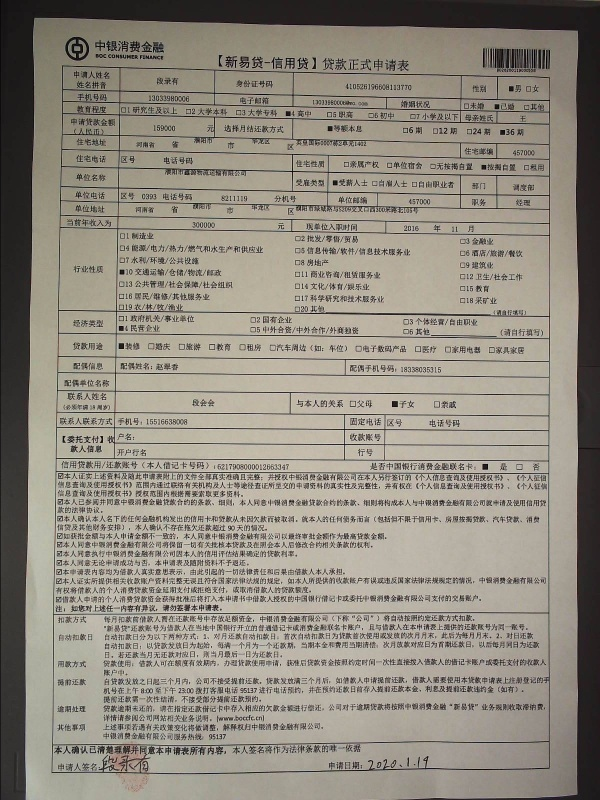text: (225, 54, 240, 75), (241, 54, 256, 75), (257, 54, 272, 75), (273, 54, 288, 75), (289, 54, 304, 75), (305, 54, 320, 75), (321, 54, 336, 75), (337, 54, 352, 75), (353, 54, 368, 75), (369, 54, 384, 75), (385, 54, 400, 75), (129, 104, 144, 124), (145, 104, 160, 124), (161, 104, 176, 124), (177, 104, 192, 124), (193, 104, 208, 124), (209, 104, 224, 124), (225, 104, 240, 124), (241, 104, 256, 124), (257, 104, 272, 124), (273, 104, 288, 124), (289, 104, 304, 124), (305, 104, 320, 124), (321, 104, 336, 124), (337, 104, 352, 124), (353, 104, 368, 124), (369, 104, 384, 124), (385, 104, 400, 124), (401, 104, 416, 124), (417, 104, 432, 124), (433, 104, 448, 124), (113, 754, 128, 774), (129, 754, 144, 774), (401, 54, 414, 75), (97, 38, 112, 56), (113, 38, 128, 56), (129, 38, 144, 56), (145, 38, 160, 56), (417, 755, 433, 771), (129, 341, 144, 357), (145, 341, 160, 357), (161, 341, 176, 357), (177, 341, 192, 357), (193, 341, 208, 357), (209, 341, 224, 357), (225, 341, 240, 357), (241, 341, 256, 357), (257, 341, 272, 357), (273, 341, 288, 357), (289, 341, 304, 357), (305, 341, 320, 357), (321, 341, 336, 357), (337, 341, 352, 357), (353, 341, 368, 357), (369, 341, 384, 357), (385, 341, 400, 357), (401, 341, 416, 357), (417, 341, 432, 357), (433, 341, 448, 357), (449, 341, 464, 357), (465, 341, 480, 357), (481, 341, 496, 357), (497, 341, 512, 357), (513, 341, 528, 357), (369, 755, 384, 771), (385, 755, 400, 771), (401, 755, 416, 771), (465, 248, 480, 263), (481, 248, 496, 263), (497, 248, 512, 263), (449, 104, 460, 124), (101, 754, 112, 774), (337, 123, 352, 137), (193, 219, 208, 233), (129, 243, 144, 257), (145, 243, 160, 257), (161, 243, 176, 257), (177, 243, 192, 257), (193, 243, 208, 257), (209, 243, 224, 257), (225, 243, 240, 257), (241, 243, 256, 257), (305, 245, 320, 259), (321, 245, 336, 259), (337, 245, 352, 259), (353, 245, 368, 259), (369, 245, 384, 259), (385, 245, 400, 259), (305, 293, 320, 307), (321, 293, 336, 307), (337, 293, 352, 307), (353, 293, 368, 307), (369, 293, 384, 307), (513, 248, 527, 263), (465, 271, 480, 285), (481, 271, 496, 285), (497, 271, 512, 285), (465, 294, 480, 308), (481, 294, 496, 308), (97, 68, 113, 81), (401, 245, 415, 259), (513, 271, 527, 285), (81, 68, 96, 81), (81, 79, 96, 92), (241, 78, 256, 91), (257, 78, 272, 91), (513, 82, 528, 95), (353, 159, 368, 172), (369, 159, 384, 172), (385, 159, 400, 172), (401, 159, 416, 172), (417, 159, 432, 172), (433, 159, 448, 172), (449, 159, 464, 172), (465, 159, 480, 172), (481, 159, 496, 172), (497, 159, 512, 172), (513, 159, 528, 172), (529, 159, 544, 172), (305, 177, 320, 190), (321, 177, 336, 190), (337, 177, 352, 190), (353, 177, 368, 190), (369, 177, 384, 190), (385, 177, 400, 190), (401, 177, 416, 190), (417, 177, 432, 190), (433, 177, 448, 190), (129, 190, 144, 203), (145, 190, 160, 203), (161, 190, 176, 203), (177, 190, 192, 203), (129, 266, 144, 279), (145, 266, 160, 279), (161, 266, 176, 279), (177, 266, 192, 279), (193, 266, 208, 279), (209, 266, 224, 279), (305, 269, 320, 282), (321, 269, 336, 282), (337, 269, 352, 282), (353, 269, 368, 282), (369, 269, 384, 282), (305, 281, 320, 294), (321, 281, 336, 294), (337, 281, 352, 294), (353, 281, 368, 294), (305, 398, 320, 411), (321, 398, 336, 411), (337, 398, 352, 411), (353, 398, 368, 411), (369, 398, 384, 411), (385, 398, 400, 411), (401, 398, 416, 411), (417, 398, 432, 411), (433, 398, 448, 411), (129, 447, 144, 460), (65, 460, 80, 473), (81, 460, 96, 473), (97, 460, 112, 473), (113, 460, 128, 473), (129, 460, 144, 473), (145, 460, 160, 473), (161, 460, 176, 473), (177, 460, 192, 473), (193, 460, 208, 473), (209, 460, 224, 473), (225, 460, 240, 473), (241, 460, 256, 473), (257, 460, 272, 473), (273, 460, 288, 473), (385, 461, 400, 474), (401, 461, 416, 474), (417, 461, 432, 474), (433, 461, 448, 474), (449, 461, 464, 474), (465, 461, 480, 474), (481, 461, 496, 474), (497, 461, 512, 474), (513, 461, 528, 474), (529, 461, 544, 474), (65, 744, 80, 757), (81, 744, 96, 757), (97, 744, 112, 757), (113, 744, 128, 757), (129, 744, 144, 757), (145, 744, 160, 757), (161, 744, 176, 757), (177, 744, 192, 757), (193, 744, 208, 757), (209, 744, 224, 757), (225, 744, 240, 757), (241, 744, 256, 757), (257, 744, 272, 757), (273, 744, 288, 757), (289, 744, 304, 757), (305, 744, 320, 757), (321, 744, 336, 757), (337, 744, 352, 757), (353, 123, 366, 137), (370, 461, 384, 474), (353, 744, 367, 757), (97, 51, 112, 63), (113, 51, 128, 63), (129, 51, 144, 63), (145, 51, 160, 63), (161, 75, 176, 87), (353, 82, 368, 94), (369, 82, 384, 94), (385, 82, 400, 94), (241, 95, 256, 107), (257, 95, 272, 107), (81, 104, 96, 116), (97, 104, 112, 116), (81, 117, 96, 129), (97, 117, 112, 129), (225, 123, 240, 135), (241, 123, 256, 135), (257, 123, 272, 135), (417, 125, 432, 137), (433, 125, 448, 137), (449, 125, 464, 137), (465, 125, 480, 137), (481, 125, 496, 137), (497, 125, 512, 137), (513, 125, 528, 137), (81, 137, 96, 149), (161, 156, 176, 168), (177, 156, 192, 168), (65, 218, 80, 230), (81, 218, 96, 230), (97, 218, 112, 230), (417, 223, 432, 235), (433, 223, 448, 235), (449, 223, 464, 235), (129, 255, 144, 267), (145, 255, 160, 267), (161, 255, 176, 267), (177, 255, 192, 267), (129, 279, 144, 291), (145, 279, 160, 291), (161, 279, 176, 291), (177, 279, 192, 291), (193, 279, 208, 291), (209, 279, 224, 291), (129, 292, 144, 304), (145, 292, 160, 304), (161, 292, 176, 304), (177, 292, 192, 304), (193, 292, 208, 304), (305, 233, 320, 245), (321, 233, 336, 245), (337, 233, 352, 245), (305, 258, 320, 270), (305, 304, 320, 316), (465, 283, 480, 295), (81, 318, 96, 330), (129, 313, 144, 325), (145, 313, 160, 325), (161, 313, 176, 325), (177, 313, 192, 325), (257, 325, 272, 337), (273, 325, 288, 337), (289, 325, 304, 337), (305, 325, 320, 337), (321, 325, 336, 337), (337, 325, 352, 337), (513, 327, 528, 339), (529, 327, 544, 339), (81, 340, 96, 352), (129, 361, 144, 373), (145, 361, 160, 373), (161, 361, 176, 373), (353, 417, 368, 429), (369, 417, 384, 429), (385, 417, 400, 429), (433, 418, 448, 430), (449, 418, 464, 430), (65, 434, 80, 446), (81, 434, 96, 446), (97, 434, 112, 446), (353, 432, 368, 444), (369, 432, 384, 444), (65, 471, 80, 483), (81, 471, 96, 483), (97, 471, 112, 483), (113, 471, 128, 483), (129, 471, 144, 483), (145, 471, 160, 483), (161, 471, 176, 483), (177, 471, 192, 483), (193, 471, 208, 483), (209, 471, 224, 483), (225, 471, 240, 483), (241, 471, 256, 483), (257, 471, 272, 483), (273, 471, 288, 483), (289, 471, 304, 483), (305, 471, 320, 483), (321, 471, 336, 483), (337, 471, 352, 483), (353, 471, 368, 483), (369, 471, 384, 483), (385, 471, 400, 483), (401, 471, 416, 483), (417, 471, 432, 483), (433, 471, 448, 483), (449, 471, 464, 483), (465, 471, 480, 483), (481, 471, 496, 483), (497, 471, 512, 483), (513, 471, 528, 483), (529, 471, 544, 483), (65, 481, 80, 493), (81, 481, 96, 493), (97, 481, 112, 493), (113, 481, 128, 493), (129, 481, 144, 493), (145, 481, 160, 493), (161, 481, 176, 493), (177, 481, 192, 493), (193, 481, 208, 493), (209, 481, 224, 493), (225, 481, 240, 493), (241, 481, 256, 493), (257, 481, 272, 493), (273, 481, 288, 493), (289, 481, 304, 493), (305, 481, 320, 493), (321, 481, 336, 493), (337, 481, 352, 493), (353, 481, 368, 493), (369, 481, 384, 493), (385, 481, 400, 493), (401, 481, 416, 493), (417, 481, 432, 493), (433, 481, 448, 493), (449, 481, 464, 493), (465, 481, 480, 493), (481, 481, 496, 493), (497, 481, 512, 493), (513, 481, 528, 493), (529, 481, 544, 493), (65, 488, 80, 500), (81, 488, 96, 500), (97, 488, 112, 500), (113, 488, 128, 500), (129, 488, 144, 500), (145, 488, 160, 500), (161, 488, 176, 500), (177, 488, 192, 500), (193, 488, 208, 500), (209, 488, 224, 500), (225, 488, 240, 500), (65, 659, 80, 671), (113, 613, 128, 625), (129, 613, 144, 625), (145, 613, 160, 625), (161, 613, 176, 625), (177, 613, 192, 625), (193, 613, 208, 625), (209, 613, 224, 625), (225, 613, 240, 625), (241, 613, 256, 625), (257, 613, 272, 625), (273, 613, 288, 625), (289, 613, 304, 625), (305, 613, 320, 625), (321, 613, 336, 625), (337, 613, 352, 625), (353, 613, 368, 625), (369, 613, 384, 625), (385, 613, 400, 625), (401, 613, 416, 625), (417, 613, 432, 625), (433, 613, 448, 625), (449, 613, 464, 625), (113, 631, 128, 643), (129, 631, 144, 643), (145, 631, 160, 643), (161, 631, 176, 643), (177, 631, 192, 643), (193, 631, 208, 643), (209, 631, 224, 643), (225, 631, 240, 643), (241, 631, 256, 643), (257, 631, 272, 643), (273, 631, 288, 643), (289, 631, 304, 643), (305, 631, 320, 643), (321, 631, 336, 643), (337, 631, 352, 643), (353, 631, 368, 643), (369, 631, 384, 643), (385, 631, 400, 643), (401, 631, 416, 643), (417, 631, 432, 643), (433, 631, 448, 643), (449, 631, 464, 643), (465, 631, 480, 643), (481, 631, 496, 643), (497, 631, 512, 643), (513, 631, 528, 643), (257, 136, 273, 147), (513, 308, 529, 319), (417, 327, 433, 338), (117, 341, 128, 357), (177, 417, 193, 428), (529, 514, 545, 525), (81, 633, 97, 644), (273, 650, 289, 661), (513, 685, 529, 696), (401, 82, 415, 94), (273, 123, 287, 135), (402, 125, 416, 137), (402, 223, 416, 235), (257, 243, 269, 257), (292, 293, 304, 307), (81, 92, 96, 103), (465, 101, 480, 112), (481, 101, 496, 112), (497, 101, 512, 112), (513, 101, 528, 112), (529, 101, 544, 112), (465, 113, 480, 124), (481, 113, 496, 124), (81, 126, 96, 137), (161, 123, 176, 134), (81, 173, 96, 184), (177, 167, 192, 178), (193, 167, 208, 178), (209, 167, 224, 178), (225, 167, 240, 178), (513, 182, 528, 193), (225, 194, 240, 205), (273, 194, 288, 205), (81, 204, 96, 215), (81, 264, 96, 275), (129, 231, 144, 242), (465, 237, 480, 248), (481, 237, 496, 248), (465, 260, 480, 271), (481, 260, 496, 271), (497, 308, 512, 319), (129, 324, 144, 335), (145, 324, 160, 335), (417, 318, 432, 329), (433, 318, 448, 329), (449, 318, 464, 329), (465, 318, 480, 329), (353, 363, 368, 374), (369, 363, 384, 374), (385, 363, 400, 374), (401, 363, 416, 374), (417, 363, 432, 374), (65, 378, 80, 389), (81, 378, 96, 389), (97, 378, 112, 389), (81, 392, 96, 403), (65, 402, 80, 413), (81, 402, 96, 413), (97, 402, 112, 413), (193, 397, 208, 408), (65, 417, 80, 428), (81, 417, 96, 428), (97, 417, 112, 428), (113, 417, 128, 428), (129, 417, 144, 428), (145, 417, 160, 428), (161, 417, 176, 428), (81, 444, 96, 455), (65, 514, 80, 525), (81, 514, 96, 525), (97, 514, 112, 525), (113, 514, 128, 525), (129, 514, 144, 525), (145, 514, 160, 525), (161, 514, 176, 525), (177, 514, 192, 525), (193, 514, 208, 525), (209, 514, 224, 525), (225, 514, 240, 525), (241, 514, 256, 525), (257, 514, 272, 525), (273, 514, 288, 525), (289, 514, 304, 525), (305, 514, 320, 525), (321, 514, 336, 525), (337, 514, 352, 525), (353, 514, 368, 525), (369, 514, 384, 525), (385, 514, 400, 525), (401, 514, 416, 525), (417, 514, 432, 525), (433, 514, 448, 525), (449, 514, 464, 525), (465, 514, 480, 525), (481, 514, 496, 525), (497, 514, 512, 525), (513, 514, 528, 525), (65, 531, 80, 542), (81, 531, 96, 542), (97, 531, 112, 542), (113, 531, 128, 542), (129, 531, 144, 542), (145, 531, 160, 542), (161, 531, 176, 542), (177, 531, 192, 542), (193, 531, 208, 542), (209, 531, 224, 542), (225, 531, 240, 542), (241, 531, 256, 542), (257, 531, 272, 542), (273, 531, 288, 542), (289, 531, 304, 542), (305, 531, 320, 542), (321, 531, 336, 542), (337, 531, 352, 542), (353, 531, 368, 542), (369, 531, 384, 542), (65, 576, 80, 587), (81, 576, 96, 587), (97, 576, 112, 587), (113, 576, 128, 587), (129, 576, 144, 587), (145, 576, 160, 587), (161, 576, 176, 587), (177, 576, 192, 587), (193, 576, 208, 587), (209, 576, 224, 587), (225, 576, 240, 587), (241, 576, 256, 587), (257, 576, 272, 587), (273, 576, 288, 587), (289, 576, 304, 587), (305, 576, 320, 587), (321, 576, 336, 587), (337, 576, 352, 587), (353, 576, 368, 587), (369, 576, 384, 587), (385, 576, 400, 587), (401, 576, 416, 587), (417, 576, 432, 587), (433, 576, 448, 587), (449, 576, 464, 587), (465, 576, 480, 587), (481, 576, 496, 587), (497, 576, 512, 587), (513, 576, 528, 587), (529, 576, 544, 587), (65, 594, 80, 605), (81, 594, 96, 605), (97, 594, 112, 605), (113, 594, 128, 605), (129, 594, 144, 605), (145, 594, 160, 605), (161, 594, 176, 605), (177, 594, 192, 605), (193, 594, 208, 605), (209, 594, 224, 605), (225, 594, 240, 605), (241, 594, 256, 605), (257, 594, 272, 605), (273, 594, 288, 605), (289, 594, 304, 605), (305, 594, 320, 605), (321, 594, 336, 605), (337, 594, 352, 605), (353, 594, 368, 605), (369, 594, 384, 605), (385, 594, 400, 605), (401, 594, 416, 605), (417, 594, 432, 605), (433, 594, 448, 605), (449, 594, 464, 605), (465, 594, 480, 605), (65, 604, 80, 615), (81, 604, 96, 615), (97, 604, 112, 615), (113, 604, 128, 615), (129, 604, 144, 615), (145, 604, 160, 615), (161, 604, 176, 615), (177, 604, 192, 615), (193, 604, 208, 615), (209, 604, 224, 615), (65, 633, 80, 644), (65, 677, 80, 688), (113, 623, 128, 634), (129, 623, 144, 634), (145, 623, 160, 634), (161, 623, 176, 634), (177, 623, 192, 634), (193, 623, 208, 634), (209, 623, 224, 634), (225, 623, 240, 634), (241, 623, 256, 634), (257, 623, 272, 634), (273, 623, 288, 634), (289, 623, 304, 634), (305, 623, 320, 634), (321, 623, 336, 634), (337, 623, 352, 634), (353, 623, 368, 634), (369, 623, 384, 634), (385, 623, 400, 634), (401, 623, 416, 634), (417, 623, 432, 634), (433, 623, 448, 634), (449, 623, 464, 634), (465, 623, 480, 634), (481, 623, 496, 634), (497, 623, 512, 634), (513, 623, 528, 634), (113, 640, 128, 651), (129, 640, 144, 651), (145, 640, 160, 651), (161, 640, 176, 651), (177, 640, 192, 651), (193, 640, 208, 651), (209, 640, 224, 651), (225, 640, 240, 651), (241, 640, 256, 651), (257, 640, 272, 651), (273, 640, 288, 651), (289, 640, 304, 651), (305, 640, 320, 651), (321, 640, 336, 651), (337, 640, 352, 651), (353, 640, 368, 651), (369, 640, 384, 651), (385, 640, 400, 651), (401, 640, 416, 651), (417, 640, 432, 651), (433, 640, 448, 651), (449, 640, 464, 651), (465, 640, 480, 651), (481, 640, 496, 651), (497, 640, 512, 651), (513, 640, 528, 651), (529, 640, 544, 651), (113, 650, 128, 661), (129, 650, 144, 661), (145, 650, 160, 661), (161, 650, 176, 661), (177, 650, 192, 661), (193, 650, 208, 661), (209, 650, 224, 661), (225, 650, 240, 661), (241, 650, 256, 661), (257, 650, 272, 661), (113, 658, 128, 669), (129, 658, 144, 669), (145, 658, 160, 669), (161, 658, 176, 669), (177, 658, 192, 669), (193, 658, 208, 669), (209, 658, 224, 669), (225, 658, 240, 669), (241, 658, 256, 669), (257, 658, 272, 669), (273, 658, 288, 669), (289, 658, 304, 669), (305, 658, 320, 669), (321, 658, 336, 669), (337, 658, 352, 669), (353, 658, 368, 669), (369, 658, 384, 669), (385, 658, 400, 669), (401, 658, 416, 669), (417, 658, 432, 669), (433, 658, 448, 669), (449, 658, 464, 669), (465, 658, 480, 669), (481, 658, 496, 669), (497, 658, 512, 669), (513, 658, 528, 669), (529, 658, 544, 669), (113, 676, 128, 687), (129, 676, 144, 687), (145, 676, 160, 687), (161, 676, 176, 687), (177, 676, 192, 687), (193, 676, 208, 687), (209, 676, 224, 687), (225, 676, 240, 687), (241, 676, 256, 687), (257, 676, 272, 687), (273, 676, 288, 687), (289, 676, 304, 687), (305, 676, 320, 687), (321, 676, 336, 687), (337, 676, 352, 687), (353, 676, 368, 687), (369, 676, 384, 687), (385, 676, 400, 687), (401, 676, 416, 687), (417, 676, 432, 687), (433, 676, 448, 687), (449, 676, 464, 687), (465, 676, 480, 687), (481, 676, 496, 687), (497, 676, 512, 687), (513, 676, 528, 687), (529, 676, 544, 687), (113, 685, 128, 696), (129, 685, 144, 696), (145, 685, 160, 696), (161, 685, 176, 696), (177, 685, 192, 696), (193, 685, 208, 696), (209, 685, 224, 696), (225, 685, 240, 696), (241, 685, 256, 696), (257, 685, 272, 696), (273, 685, 288, 696), (289, 685, 304, 696), (305, 685, 320, 696), (321, 685, 336, 696), (337, 685, 352, 696), (353, 685, 368, 696), (369, 685, 384, 696), (385, 685, 400, 696), (401, 685, 416, 696), (417, 685, 432, 696), (433, 685, 448, 696), (449, 685, 464, 696), (465, 685, 480, 696), (481, 685, 496, 696), (497, 685, 512, 696), (113, 702, 128, 713), (129, 702, 144, 713), (145, 702, 160, 713), (161, 702, 176, 713), (177, 702, 192, 713), (193, 702, 208, 713), (209, 702, 224, 713), (225, 702, 240, 713), (241, 702, 256, 713), (257, 702, 272, 713), (273, 702, 288, 713), (289, 702, 304, 713), (305, 702, 320, 713), (321, 702, 336, 713), (337, 702, 352, 713), (353, 702, 368, 713), (369, 702, 384, 713), (385, 702, 400, 713), (401, 702, 416, 713), (417, 702, 432, 713), (433, 702, 448, 713), (449, 702, 464, 713), (465, 702, 480, 713), (481, 702, 496, 713), (497, 702, 512, 713), (513, 702, 528, 713), (529, 702, 544, 713), (113, 713, 128, 724), (129, 713, 144, 724), (145, 713, 160, 724), (161, 713, 176, 724), (177, 713, 192, 724), (193, 713, 208, 724), (209, 713, 224, 724), (225, 713, 240, 724), (241, 713, 256, 724), (113, 731, 128, 742), (129, 731, 144, 742), (145, 731, 160, 742), (161, 731, 176, 742), (177, 731, 192, 742), (193, 731, 208, 742), (209, 731, 224, 742), (65, 762, 80, 773), (81, 762, 96, 773), (337, 761, 352, 772), (177, 94, 193, 104), (120, 104, 128, 124), (241, 559, 257, 569), (97, 79, 109, 92), (529, 82, 541, 95), (145, 139, 158, 151), (465, 223, 478, 235), (292, 281, 304, 294), (481, 283, 494, 295), (449, 398, 461, 411), (115, 432, 128, 444), (116, 447, 128, 460), (465, 613, 478, 625), (209, 219, 220, 233), (293, 245, 304, 259), (402, 318, 416, 329), (402, 327, 416, 338), (66, 392, 80, 403), (97, 392, 111, 403), (161, 94, 176, 104), (321, 98, 336, 108), (337, 98, 352, 108), (353, 98, 368, 108), (401, 100, 416, 110), (417, 100, 432, 110), (305, 139, 320, 149), (321, 139, 336, 149), (337, 139, 352, 149), (353, 139, 368, 149), (465, 147, 480, 157), (481, 147, 496, 157), (81, 154, 96, 164), (305, 159, 320, 169), (81, 190, 96, 200), (337, 195, 352, 205), (353, 195, 368, 205), (417, 197, 432, 207), (193, 202, 208, 212), (305, 205, 320, 215), (321, 205, 336, 215), (337, 205, 352, 215), (353, 205, 368, 215), (369, 205, 384, 215), (385, 205, 400, 215), (401, 205, 416, 215), (129, 302, 144, 312), (145, 302, 160, 312), (161, 302, 176, 312), (257, 315, 272, 325), (273, 315, 288, 325), (81, 361, 96, 371), (65, 498, 80, 508), (81, 498, 96, 508), (97, 498, 112, 508), (113, 498, 128, 508), (129, 498, 144, 508), (145, 498, 160, 508), (161, 498, 176, 508), (177, 498, 192, 508), (193, 498, 208, 508), (209, 498, 224, 508), (225, 498, 240, 508), (241, 498, 256, 508), (257, 498, 272, 508), (273, 498, 288, 508), (289, 498, 304, 508), (305, 498, 320, 508), (321, 498, 336, 508), (337, 498, 352, 508), (353, 498, 368, 508), (369, 498, 384, 508), (385, 498, 400, 508), (401, 498, 416, 508), (417, 498, 432, 508), (433, 498, 448, 508), (449, 498, 464, 508), (465, 498, 480, 508), (481, 498, 496, 508), (497, 498, 512, 508), (513, 498, 528, 508), (529, 498, 544, 508), (65, 506, 80, 516), (81, 506, 96, 516), (65, 523, 80, 533), (81, 523, 96, 533), (97, 523, 112, 533), (113, 523, 128, 533), (129, 523, 144, 533), (145, 523, 160, 533), (161, 523, 176, 533), (177, 523, 192, 533), (193, 523, 208, 533), (209, 523, 224, 533), (225, 523, 240, 533), (241, 523, 256, 533), (257, 523, 272, 533), (65, 540, 80, 550), (81, 540, 96, 550), (97, 540, 112, 550), (113, 540, 128, 550), (129, 540, 144, 550), (145, 540, 160, 550), (161, 540, 176, 550), (177, 540, 192, 550), (193, 540, 208, 550), (209, 540, 224, 550), (225, 540, 240, 550), (241, 540, 256, 550), (257, 540, 272, 550), (273, 540, 288, 550), (289, 540, 304, 550), (305, 540, 320, 550), (321, 540, 336, 550), (337, 540, 352, 550), (353, 540, 368, 550), (65, 559, 80, 569), (81, 559, 96, 569), (97, 559, 112, 569), (113, 559, 128, 569), (129, 559, 144, 569), (145, 559, 160, 569), (161, 559, 176, 569), (177, 559, 192, 569), (193, 559, 208, 569), (209, 559, 224, 569), (225, 559, 240, 569), (65, 567, 80, 577), (81, 567, 96, 577), (97, 567, 112, 577), (113, 567, 128, 577), (129, 567, 144, 577), (145, 567, 160, 577), (161, 567, 176, 577), (177, 567, 192, 577), (193, 567, 208, 577), (209, 567, 224, 577), (225, 567, 240, 577), (241, 567, 256, 577), (257, 567, 272, 577), (273, 567, 288, 577), (289, 567, 304, 577), (305, 567, 320, 577), (321, 567, 336, 577), (65, 586, 80, 596), (81, 586, 96, 596), (97, 586, 112, 596), (113, 586, 128, 596), (129, 586, 144, 596), (145, 586, 160, 596), (161, 586, 176, 596), (177, 586, 192, 596), (193, 586, 208, 596), (209, 586, 224, 596), (225, 586, 240, 596), (241, 586, 256, 596), (257, 586, 272, 596), (273, 586, 288, 596), (289, 586, 304, 596), (65, 615, 80, 625), (65, 705, 80, 715), (65, 723, 80, 733), (113, 695, 128, 705), (129, 695, 144, 705), (145, 695, 160, 705), (161, 695, 176, 705), (177, 695, 192, 705), (193, 695, 208, 705), (209, 695, 224, 705), (225, 695, 240, 705), (241, 695, 256, 705), (113, 722, 128, 732), (129, 722, 144, 732), (145, 722, 160, 732), (161, 722, 176, 732), (177, 722, 192, 732), (193, 722, 208, 732), (209, 722, 224, 732), (225, 722, 240, 732), (241, 722, 256, 732), (257, 722, 272, 732), (273, 722, 288, 732), (289, 722, 304, 732), (305, 722, 320, 732), (257, 203, 273, 212), (321, 258, 333, 270), (292, 304, 304, 316), (500, 327, 512, 339), (289, 550, 305, 559), (97, 92, 110, 103), (341, 159, 352, 172), (145, 231, 158, 242), (117, 266, 128, 279), (115, 324, 128, 335), (257, 713, 270, 724), (53, 744, 64, 757), (514, 198, 528, 208), (226, 206, 240, 216), (118, 243, 128, 257), (337, 567, 351, 577), (145, 754, 152, 774), (497, 66, 512, 75), (513, 66, 528, 75), (193, 137, 208, 146), (513, 149, 528, 158), (321, 222, 336, 231), (337, 222, 352, 231), (65, 550, 80, 559), (81, 550, 96, 559), (97, 550, 112, 559), (113, 550, 128, 559), (129, 550, 144, 559), (145, 550, 160, 559), (161, 550, 176, 559), (177, 550, 192, 559), (193, 550, 208, 559), (209, 550, 224, 559), (225, 550, 240, 559), (241, 550, 256, 559), (257, 550, 272, 559), (273, 550, 288, 559), (113, 669, 128, 678), (97, 137, 108, 149), (164, 167, 176, 178), (193, 255, 204, 267), (117, 279, 128, 291), (117, 292, 128, 304), (293, 233, 304, 245), (353, 233, 364, 245), (293, 258, 304, 270), (321, 304, 332, 316), (97, 340, 108, 352), (433, 363, 445, 374), (353, 761, 365, 772), (147, 94, 160, 104), (145, 205, 158, 215), (294, 269, 304, 282), (161, 38, 168, 56), (327, 123, 336, 137), (306, 222, 320, 231), (97, 126, 108, 137), (97, 173, 108, 184), (241, 194, 252, 205), (469, 198, 480, 209), (97, 204, 108, 215), (357, 447, 368, 458), (53, 594, 64, 605), (53, 604, 64, 615), (97, 154, 109, 164), (276, 221, 288, 231), (118, 255, 128, 267), (225, 279, 235, 291), (177, 302, 189, 312), (97, 318, 107, 330), (118, 313, 128, 325), (353, 325, 363, 337), (305, 586, 317, 596), (529, 631, 539, 643), (227, 141, 240, 150), (295, 177, 304, 190), (529, 182, 539, 193), (97, 190, 108, 200), (289, 194, 299, 205), (117, 302, 128, 312), (70, 444, 80, 455), (97, 506, 108, 516), (102, 623, 112, 634), (102, 658, 112, 669), (102, 685, 112, 696), (102, 702, 112, 713), (102, 731, 112, 742), (71, 117, 80, 129), (135, 139, 144, 151), (71, 318, 80, 330), (71, 340, 80, 352), (119, 361, 128, 373), (129, 432, 138, 444), (81, 659, 90, 671), (103, 613, 112, 625), (103, 631, 112, 643), (219, 54, 224, 75), (72, 68, 80, 81), (449, 177, 457, 190), (120, 190, 128, 203), (296, 398, 304, 411), (134, 205, 144, 215), (369, 540, 379, 550), (54, 586, 64, 596), (81, 615, 91, 625), (257, 695, 267, 705), (102, 722, 112, 732), (321, 722, 331, 732), (471, 83, 480, 94), (481, 83, 490, 94), (519, 113, 528, 124), (129, 155, 138, 166), (241, 167, 250, 178), (289, 207, 298, 218), (97, 264, 106, 275), (119, 231, 128, 242), (209, 397, 218, 408), (385, 531, 394, 542), (55, 576, 64, 587), (103, 640, 112, 651), (103, 650, 112, 661), (103, 676, 112, 687), (103, 713, 112, 724), (327, 761, 336, 772), (344, 82, 352, 94), (529, 66, 539, 75), (311, 98, 320, 108), (295, 139, 304, 149), (529, 149, 539, 158), (295, 159, 304, 169), (471, 182, 480, 192), (353, 222, 363, 231), (97, 361, 106, 371), (55, 540, 64, 550), (55, 567, 64, 577), (102, 669, 112, 678), (103, 695, 112, 705), (72, 126, 80, 137), (152, 123, 160, 134), (120, 155, 128, 166), (56, 531, 64, 542), (81, 677, 89, 688), (458, 271, 464, 285), (458, 294, 464, 308), (497, 294, 503, 308), (249, 325, 256, 337), (57, 471, 64, 483), (57, 488, 64, 500), (241, 488, 248, 500), (55, 550, 64, 559), (209, 123, 217, 133), (481, 182, 489, 192), (408, 197, 416, 207), (296, 205, 304, 215), (248, 315, 256, 325), (72, 361, 80, 371), (56, 506, 64, 516), (56, 559, 64, 569), (81, 705, 89, 715), (81, 723, 89, 733), (145, 447, 151, 460), (289, 142, 296, 153), (481, 198, 488, 209), (73, 204, 80, 215), (73, 264, 80, 275), (97, 444, 104, 455), (369, 447, 376, 458), (57, 514, 64, 525), (481, 594, 488, 605), (57, 677, 64, 688), (545, 676, 552, 687), (225, 731, 232, 742), (57, 762, 64, 773), (161, 51, 167, 63), (177, 75, 183, 87), (209, 292, 215, 304), (458, 283, 464, 295), (58, 481, 64, 493), (545, 481, 551, 493), (58, 659, 64, 671), (289, 315, 296, 325), (57, 498, 64, 508), (57, 523, 64, 533), (57, 705, 64, 715), (57, 723, 64, 733), (458, 237, 464, 248), (458, 260, 464, 271), (545, 576, 551, 587), (58, 633, 64, 644), (75, 79, 80, 92), (235, 78, 240, 91), (369, 281, 374, 294), (75, 104, 80, 116), (75, 137, 80, 149), (177, 140, 183, 150), (74, 154, 80, 164), (321, 159, 327, 169), (529, 198, 535, 208), (170, 205, 176, 215), (177, 205, 183, 215), (209, 202, 215, 212), (460, 248, 464, 263), (177, 361, 182, 373), (401, 417, 406, 429), (545, 471, 550, 483), (545, 498, 551, 508), (58, 615, 64, 625), (188, 219, 192, 233), (59, 417, 64, 428), (545, 658, 550, 669), (97, 762, 102, 773), (93, 38, 96, 56), (209, 137, 215, 146), (273, 78, 277, 91), (508, 82, 512, 95), (60, 460, 64, 473), (289, 460, 293, 473), (171, 140, 176, 150), (75, 190, 80, 200), (156, 75, 160, 87), (113, 117, 117, 129), (193, 313, 197, 325), (428, 418, 432, 430), (251, 203, 256, 212), (76, 92, 80, 103), (252, 136, 256, 147), (76, 173, 80, 184), (220, 194, 224, 205), (492, 308, 496, 319), (529, 623, 533, 634), (545, 702, 549, 713), (369, 98, 373, 108), (417, 205, 421, 215), (193, 190, 196, 203), (193, 156, 196, 168), (349, 417, 352, 429), (61, 434, 64, 446), (113, 434, 116, 446), (349, 432, 352, 444), (129, 669, 133, 678), (161, 324, 164, 335), (385, 293, 387, 307), (545, 159, 547, 172), (225, 266, 227, 279), (94, 51, 96, 63), (545, 101, 547, 112), (286, 142, 288, 153), (510, 182, 512, 193), (286, 207, 288, 218), (497, 237, 499, 248), (497, 260, 499, 271), (350, 363, 352, 374), (225, 604, 227, 615), (206, 123, 208, 133), (369, 139, 371, 149), (433, 197, 435, 207), (190, 202, 192, 212), (367, 755, 368, 771), (385, 269, 386, 282), (239, 95, 240, 107), (223, 123, 224, 135), (113, 218, 114, 230), (545, 327, 546, 339), (463, 101, 464, 112), (529, 113, 530, 124), (177, 123, 178, 134), (481, 318, 482, 329), (113, 378, 114, 389), (113, 402, 114, 413), (191, 397, 192, 408), (545, 640, 546, 651), (399, 100, 400, 110), (433, 100, 434, 110), (369, 195, 370, 205), (273, 523, 274, 533)
